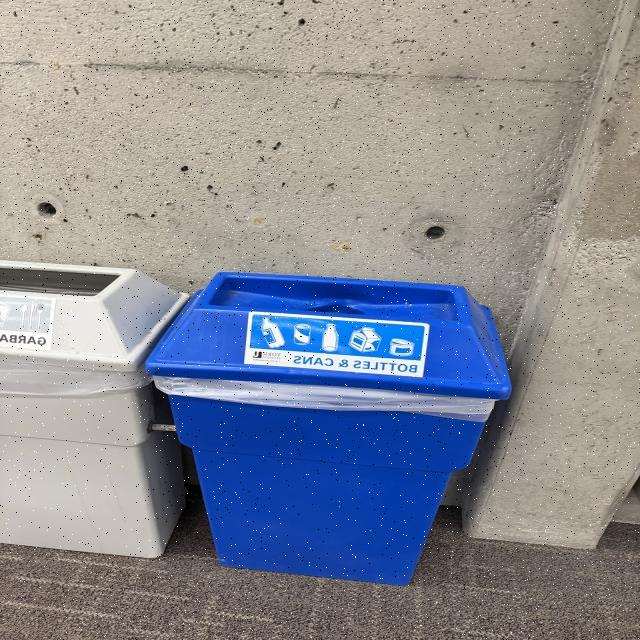Dustbin: (0, 260, 511, 588)
